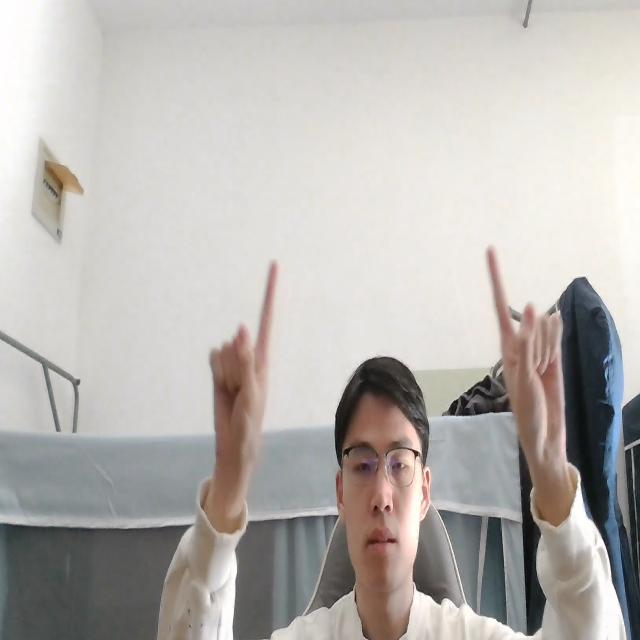one: (483, 236, 569, 484), (204, 251, 279, 506)
